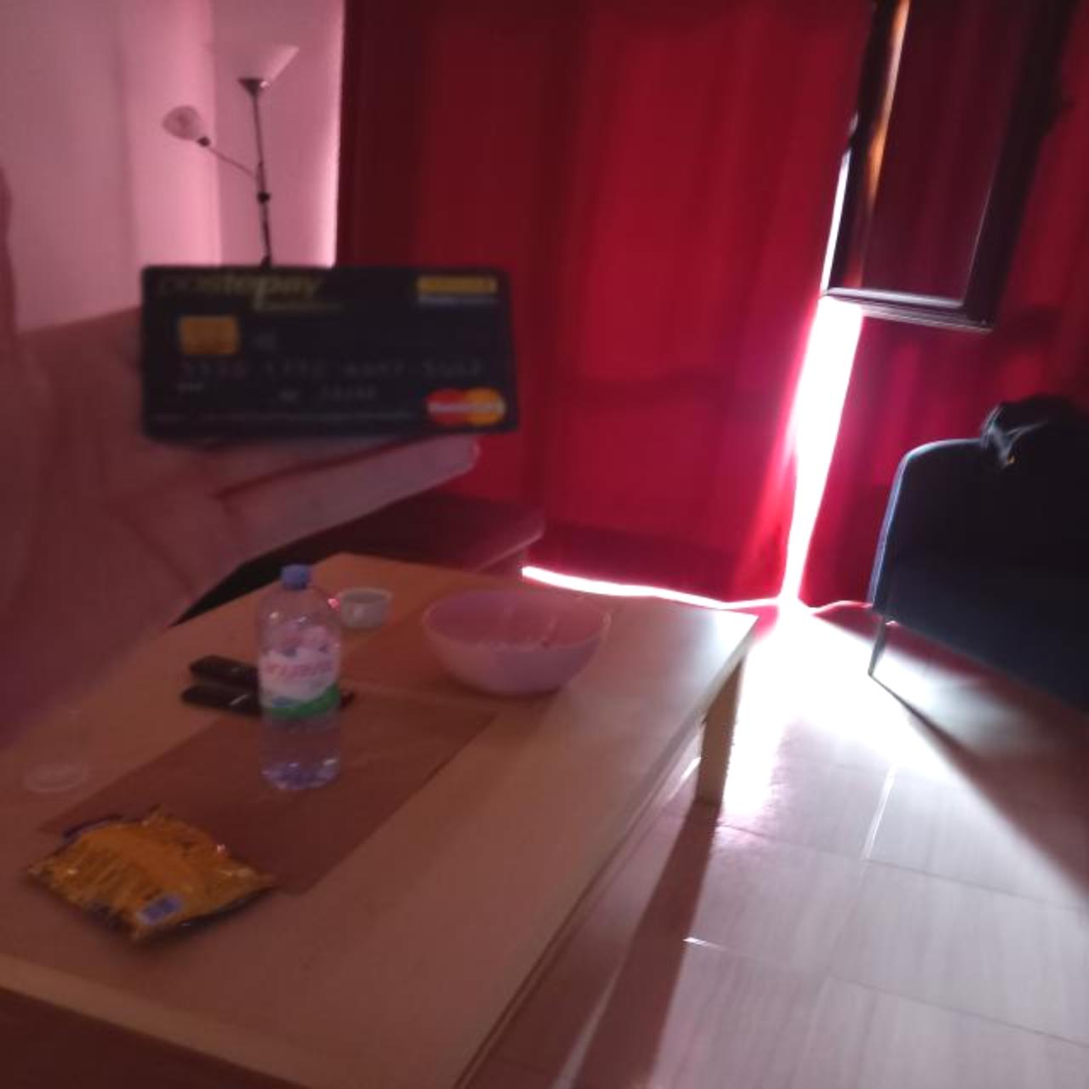credit_card: (116, 255, 531, 439)
